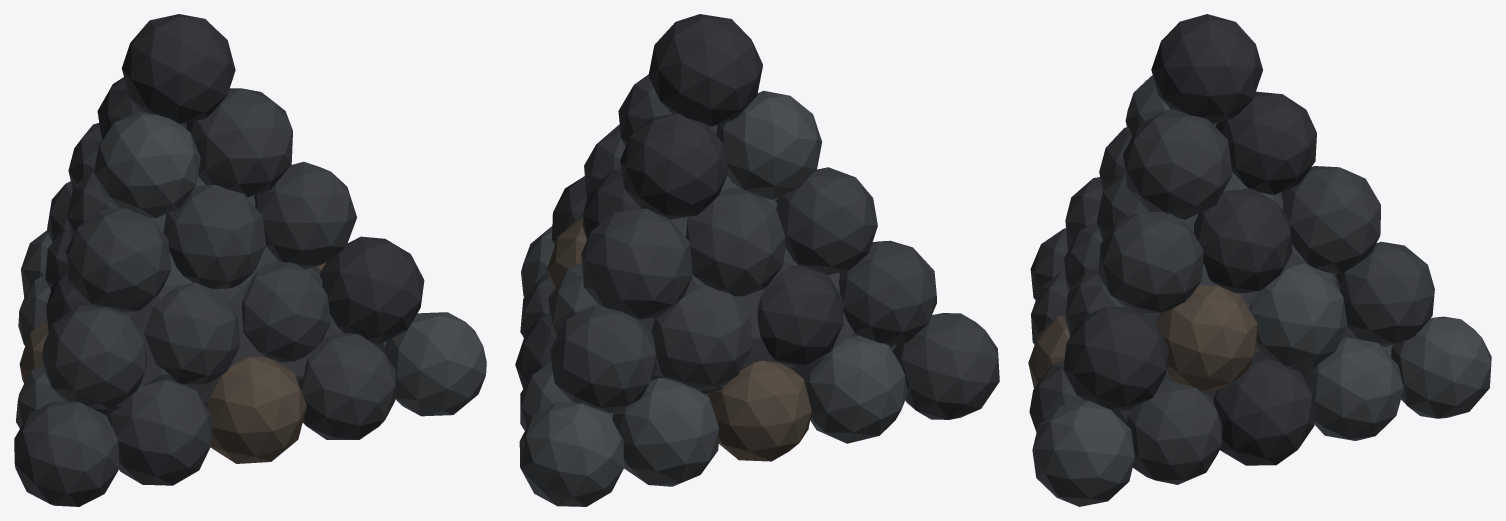
Rendered from SM_Prop_Cannonball_Holder_01_Insert_01.fbx.
3 renders of one model, left to right at view 1: azimuth 30°, elevation 25°; view 2: azimuth 150°, elevation 25°; view 3: azimuth 270°, elevation 25°, orthographic. The views are drawn at different scales.
Parts seen in each view (by area): view 1: SM_Prop_Cannonball_Holder_01_Insert_01; view 2: SM_Prop_Cannonball_Holder_01_Insert_01; view 3: SM_Prop_Cannonball_Holder_01_Insert_01.
Part boxes in pixels (bbox=[...]): SM_Prop_Cannonball_Holder_01_Insert_01: bbox=[14, 14, 486, 506]; SM_Prop_Cannonball_Holder_01_Insert_01: bbox=[515, 14, 999, 506]; SM_Prop_Cannonball_Holder_01_Insert_01: bbox=[1028, 14, 1491, 506].
Size of the model in its own units: 99.65 by 82.67 by 88.44.
